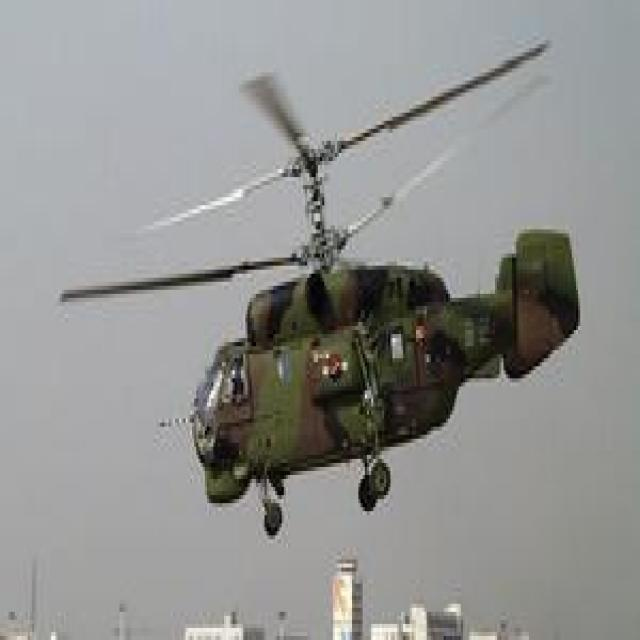MIL_HELO: (54, 42, 587, 549)
